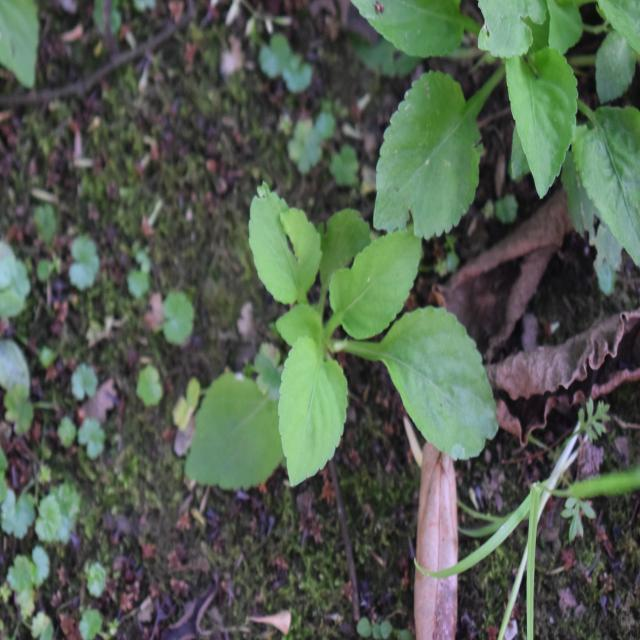Viola: (158, 198, 491, 496)
